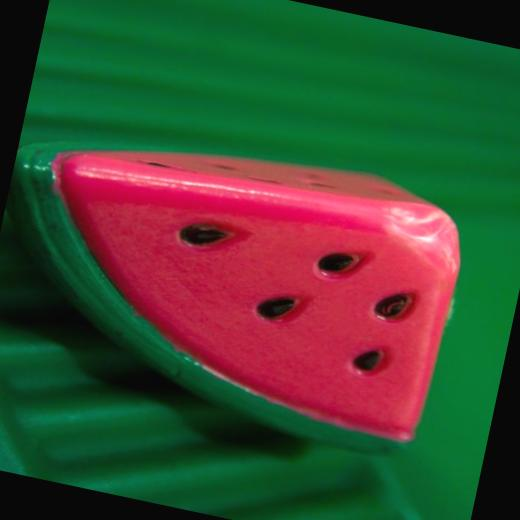Cherry: (0, 99, 474, 466)
